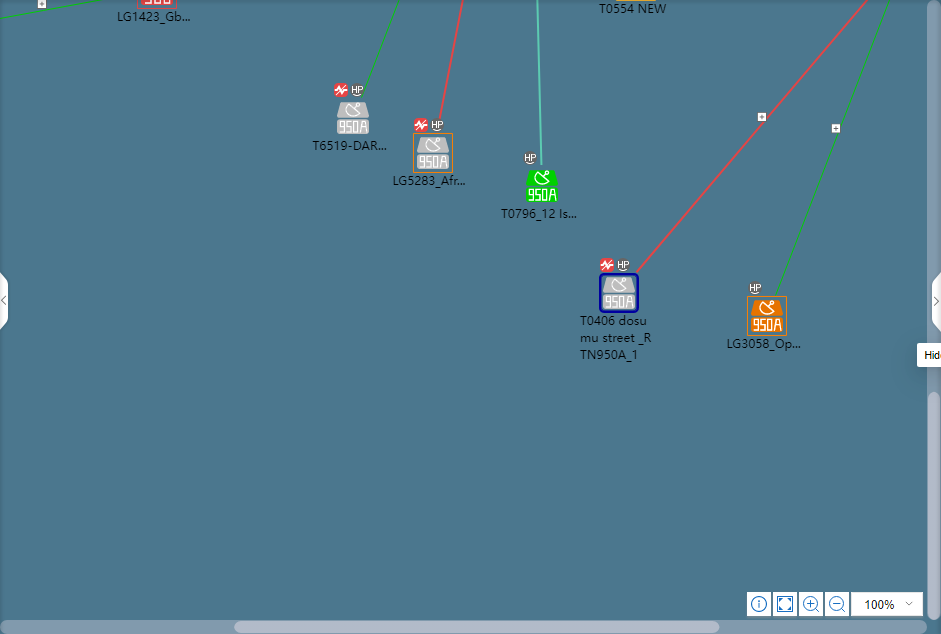Link_Blue: (535, 1, 544, 168)
Link_Green: (773, 0, 892, 296), (359, 1, 402, 99), (0, 0, 103, 21)
Link_Red: (636, 1, 870, 273), (437, 1, 465, 121)
RTN_Gray: (415, 134, 451, 171), (600, 276, 636, 311), (337, 102, 368, 134)
RTN_Green: (526, 170, 556, 202)
RTN_Orange: (748, 300, 782, 333)
